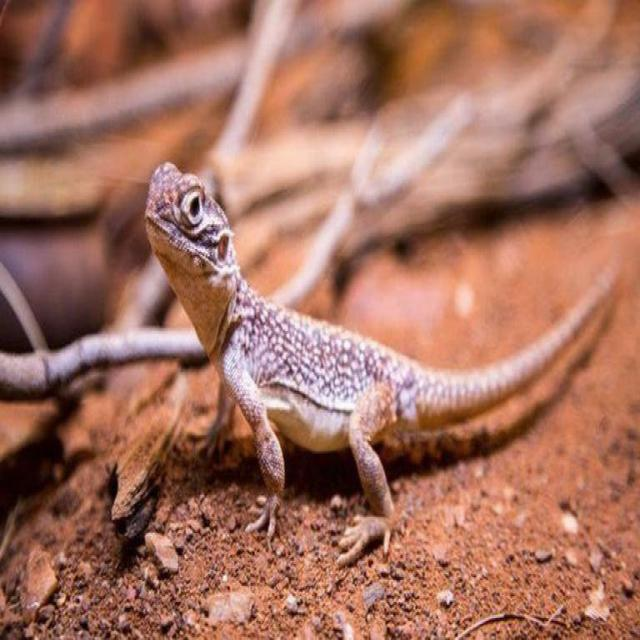lizard: (146, 163, 617, 564)
